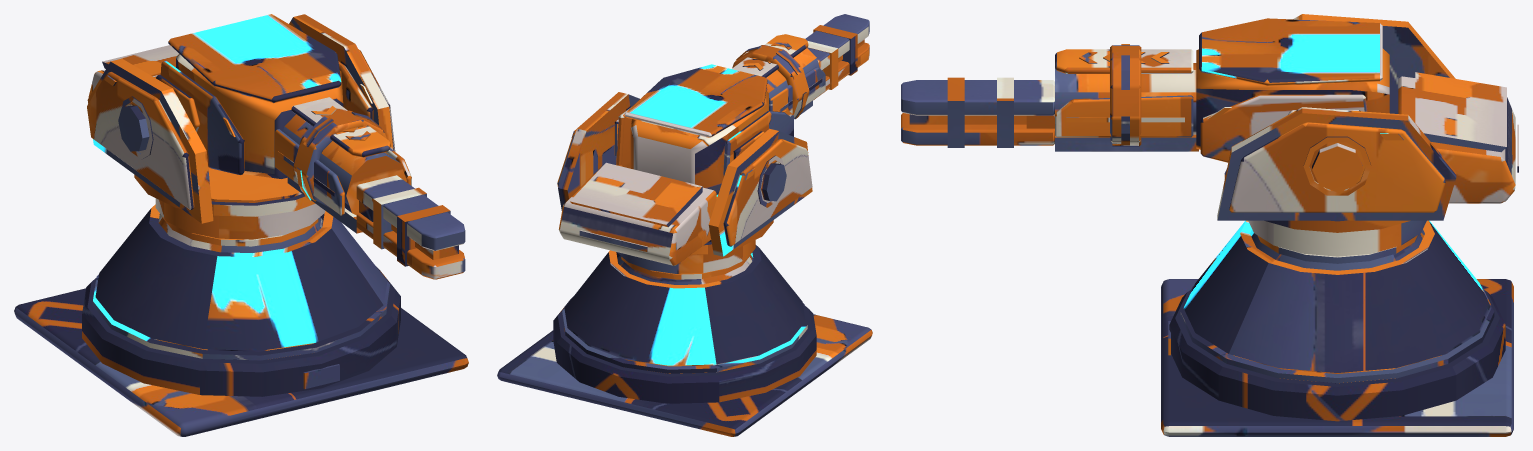
File: R4W_Basic_LOD1.fbx
3 views of the same model, side by side, from view 1: azimuth 30°, elevation 25°; view 2: azimuth 150°, elevation 25°; view 3: azimuth 270°, elevation 25° (orthographic). The views are drawn at different scales.
Parts seen in each view (by area): view 1: R4W_Basic_LOD1; view 2: R4W_Basic_LOD1; view 3: R4W_Basic_LOD1.
Part boxes in pixels (box(x1,y1,x2,y2)): R4W_Basic_LOD1: box(14, 14, 468, 436); R4W_Basic_LOD1: box(497, 14, 872, 436); R4W_Basic_LOD1: box(901, 14, 1518, 436).
Size of the model in its own units: 0.5 by 0.495 by 0.8748.
